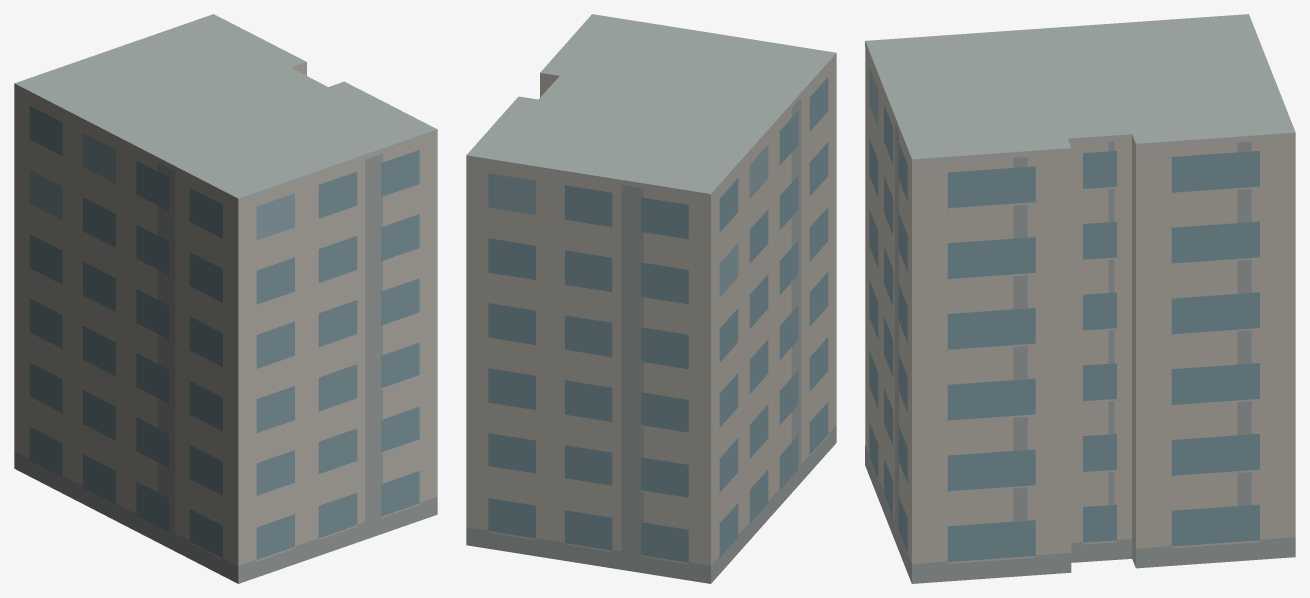
Rendered from survey-upis-32807729.glb.
3 views of the same model, side by side, from view 1: azimuth 30°, elevation 25°; view 2: azimuth 150°, elevation 25°; view 3: azimuth 270°, elevation 25° (orthographic). The views are drawn at different scales.
Visible parts, largest first — view 1: survey-upis-32807729.tmp; view 2: survey-upis-32807729.tmp; view 3: survey-upis-32807729.tmp.
Part boxes in pixels (x1,y1,x2,y2): survey-upis-32807729.tmp: (14,14,437,583); survey-upis-32807729.tmp: (466,14,836,583); survey-upis-32807729.tmp: (865,14,1295,583).
Size of the model in its own units: 13.45 by 18.3 by 16.83.
